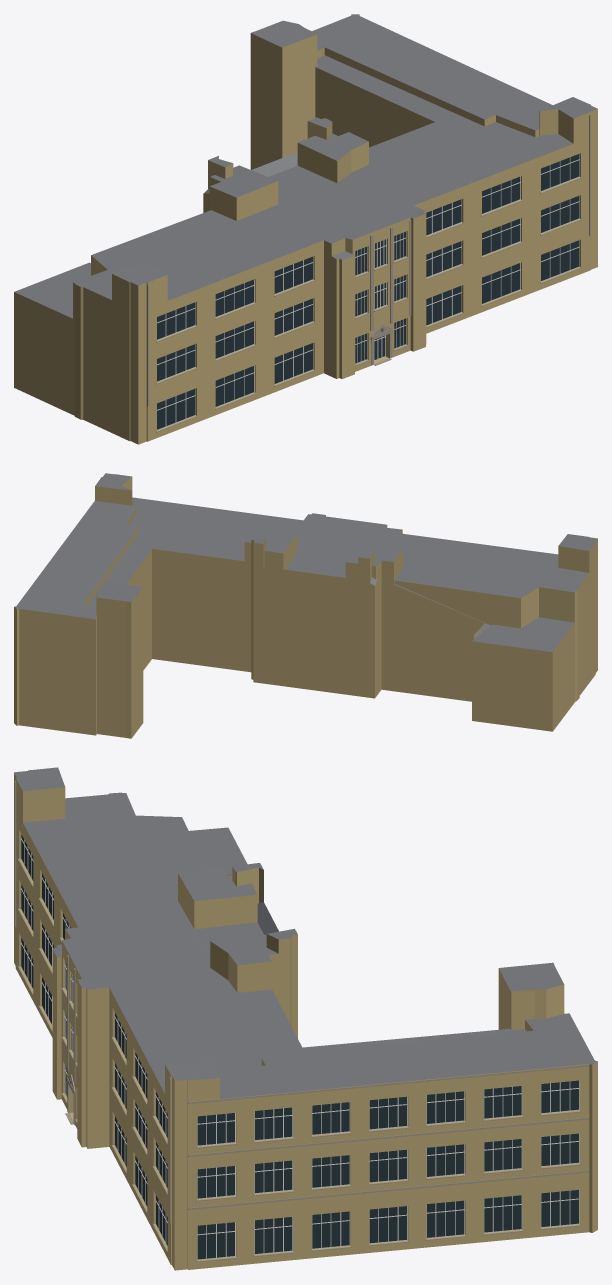
Rendered from recipe-large-berlage-lyceum.glb.
3 renders of one model, top to bottom at view 1: azimuth 30°, elevation 25°; view 2: azimuth 150°, elevation 25°; view 3: azimuth 270°, elevation 25°, orthographic. The views are drawn at different scales.
Parts seen in each view (by area): view 1: berlage-lyceum; view 2: berlage-lyceum; view 3: berlage-lyceum.
Part boxes in pixels (x1,y1,x2,y2): berlage-lyceum: [14, 14, 597, 444]; berlage-lyceum: [14, 473, 597, 738]; berlage-lyceum: [14, 767, 597, 1270].
Bounding box in the file's own units: 70.08 × 20.07 × 52.68.
